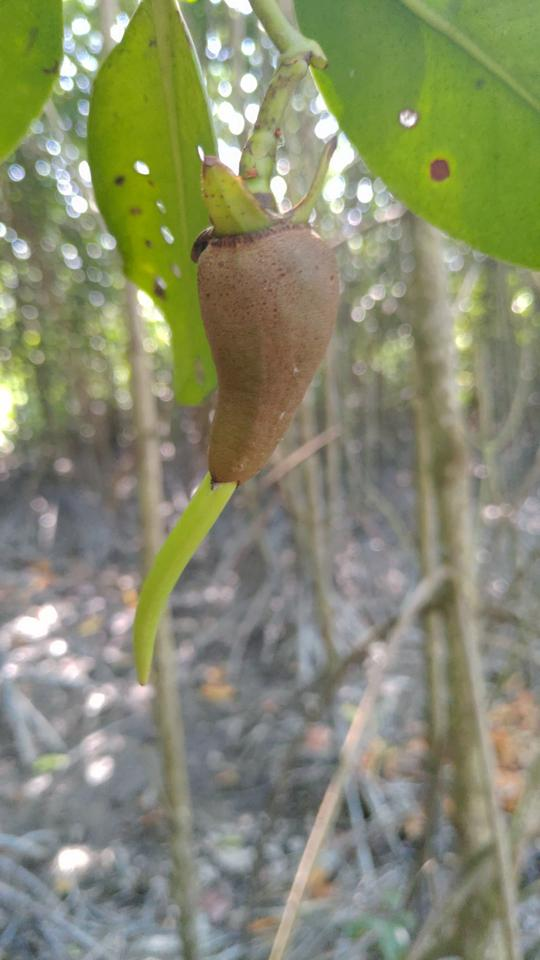mentah: (113, 174, 359, 703)
